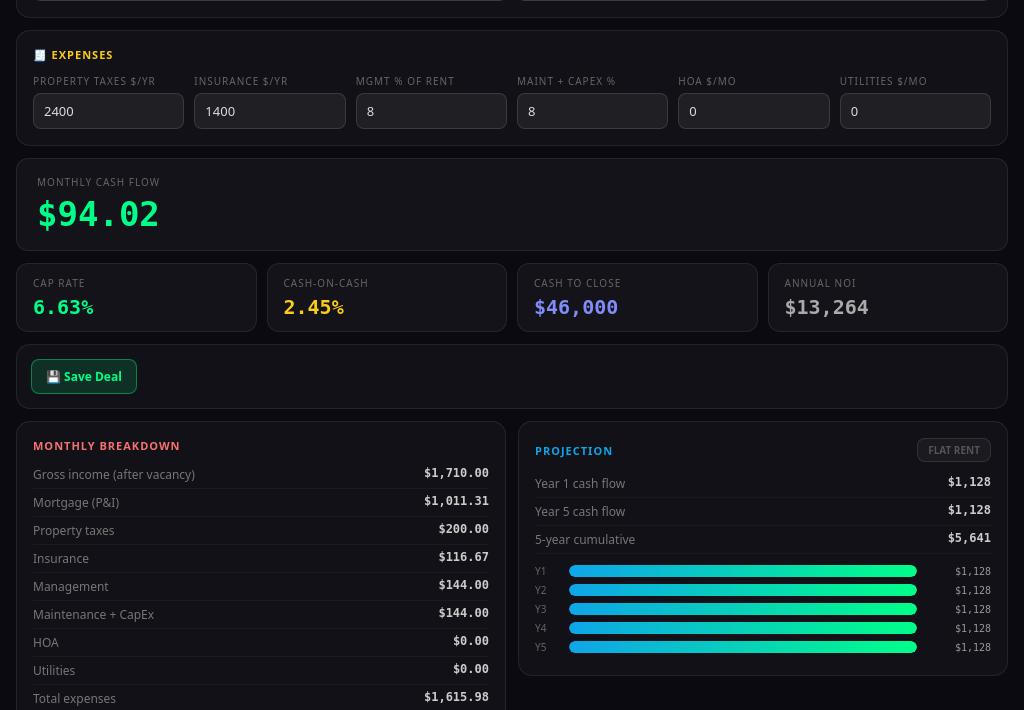
Scenario: points and saved deals › deleting a saved deal takes two clicks and removes it
(page scrolled)
# The name field only appears after the first save attempt
Click the button "💾 Save Deal" at point(84, 376), box [31,359,137,394]
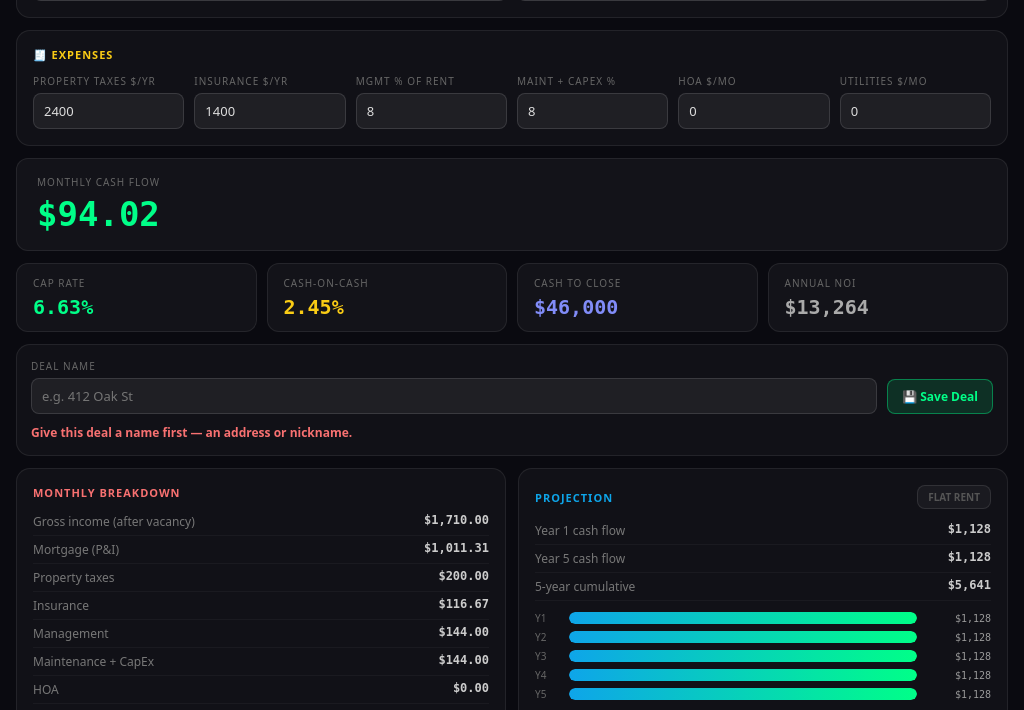
Type "To Delete" into the field with placeholder "e.g. 412 Oak St" at point(454, 396), box [31,378,877,414]
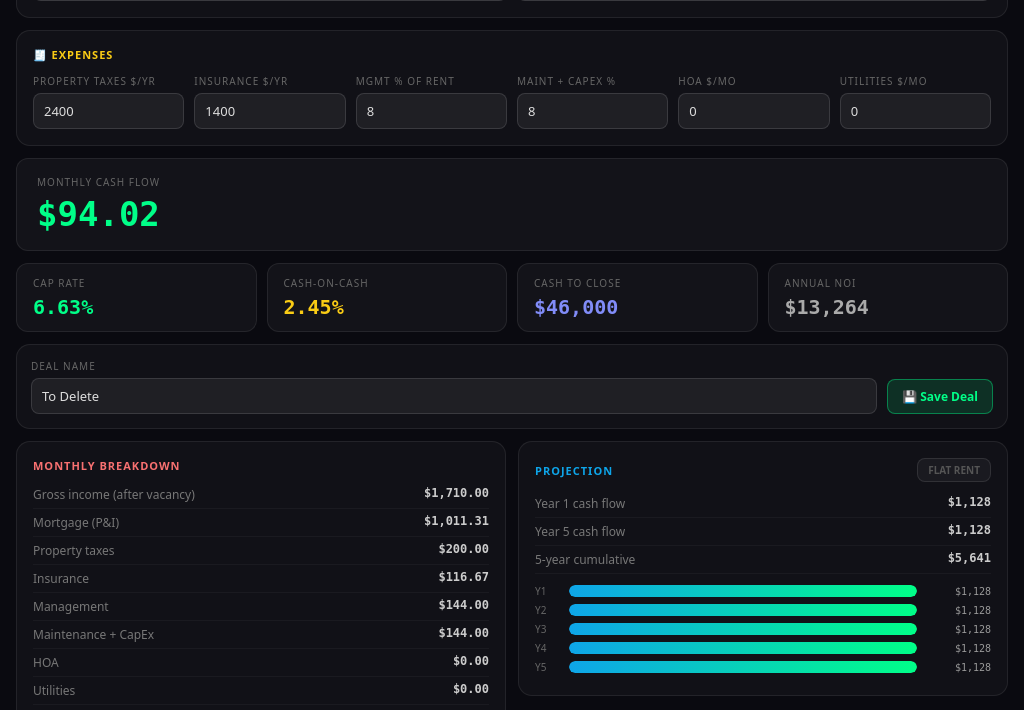
Click the button "💾 Save Deal" at point(940, 396), box [887,379,993,414]
(page scrolled)
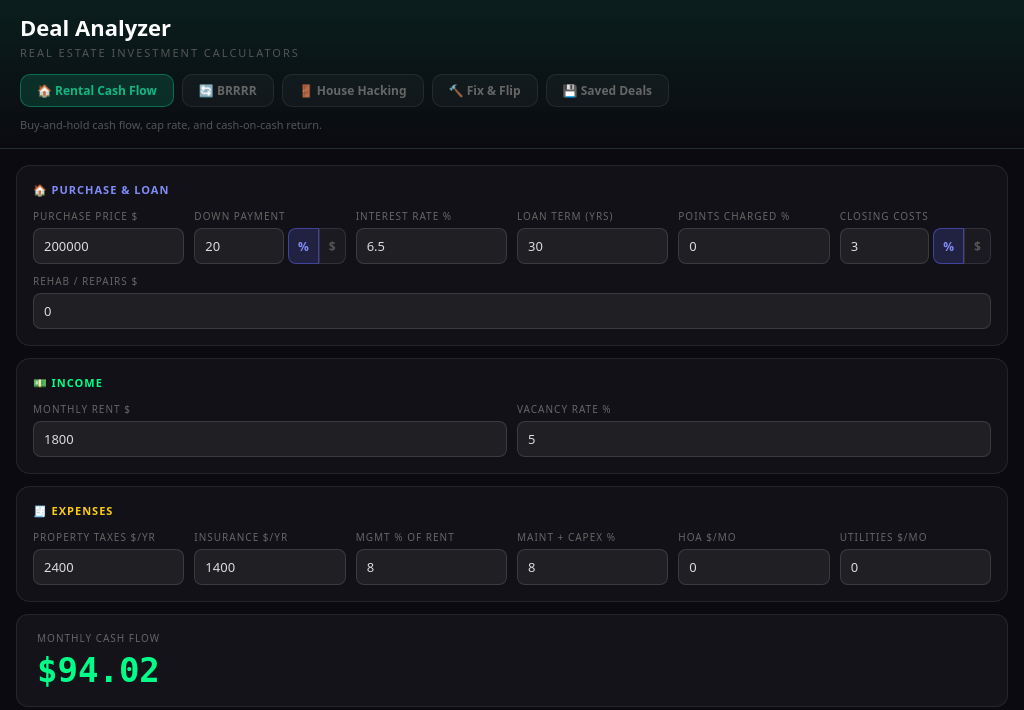
Click the button "💾 Saved Deals" at point(607, 90), box [546,74,669,107]
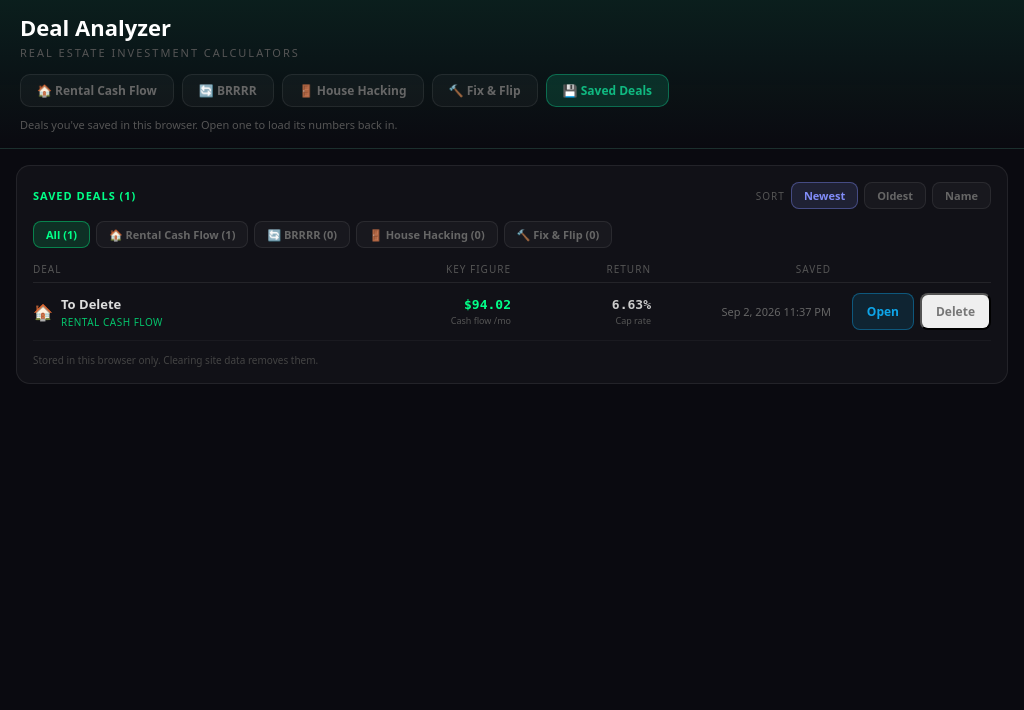
Result: the text "To Delete" is shown at [61,294,121,312]
# First click arms the confirm, second click deletes
Click the button "Delete" at point(956, 312), box [920,293,991,330]
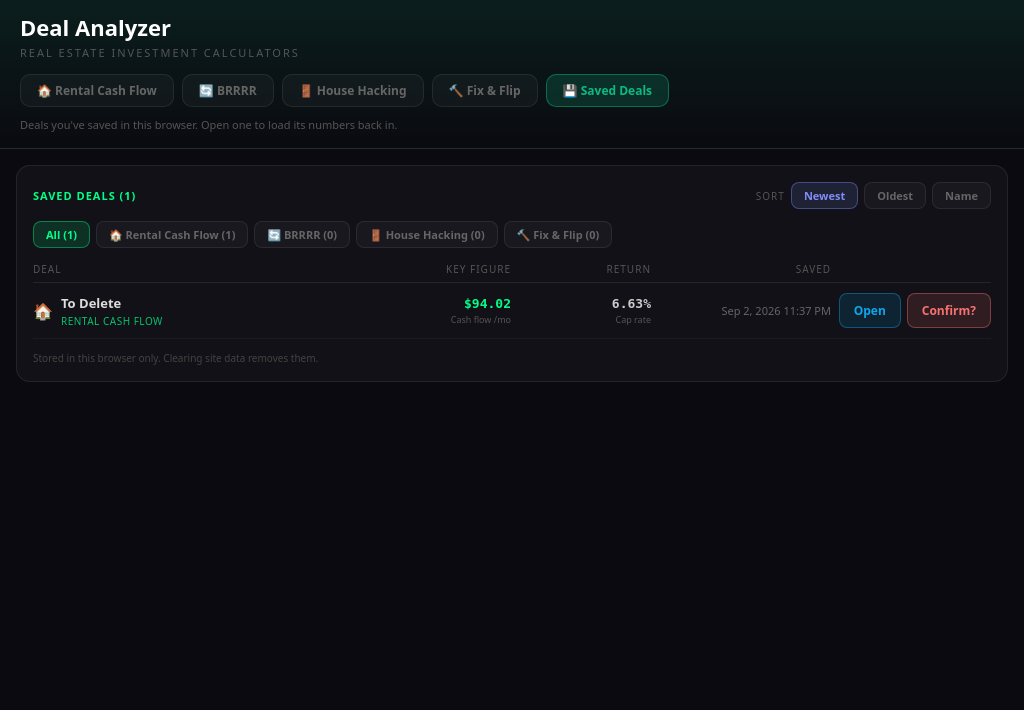
Result: the button "Confirm?" is shown
Click the button "Confirm?" at point(949, 310), box [907,293,991,328]
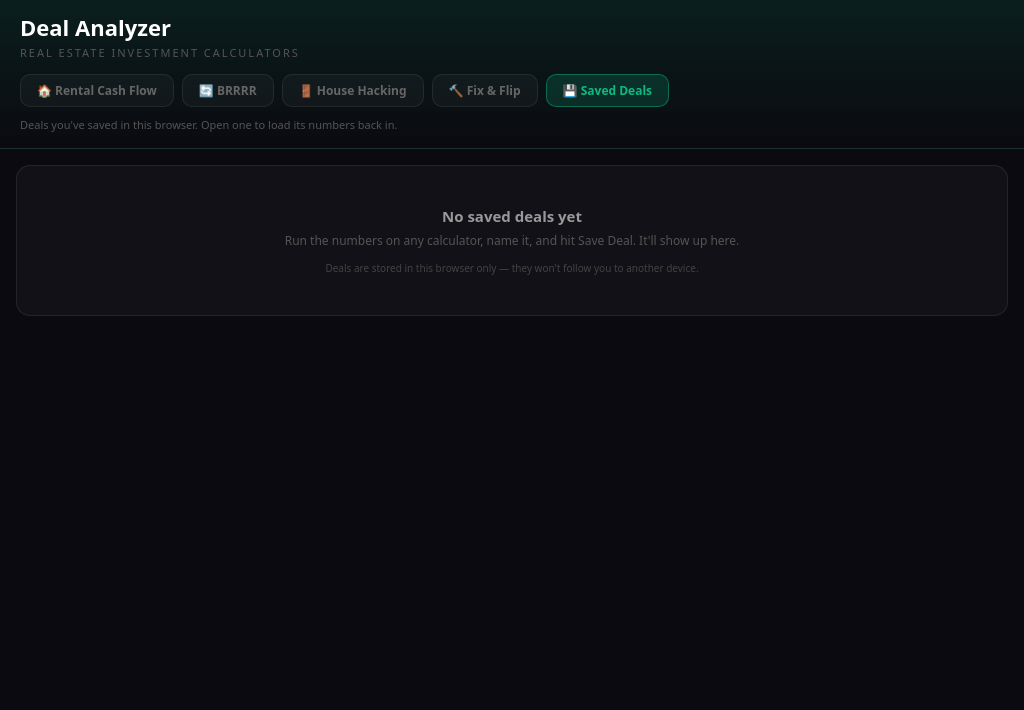
Result: the text "No saved deals yet" is shown at [442,206,582,226]
Result: the text "To Delete" is gone
